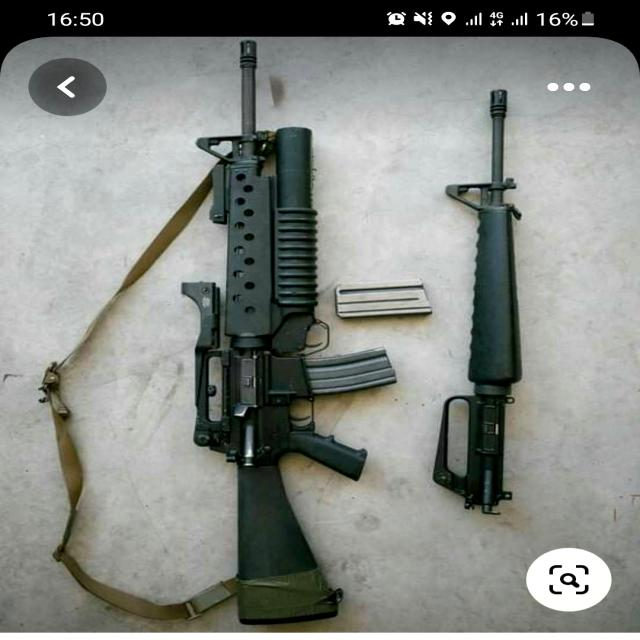m16: (129, 110, 389, 624)
